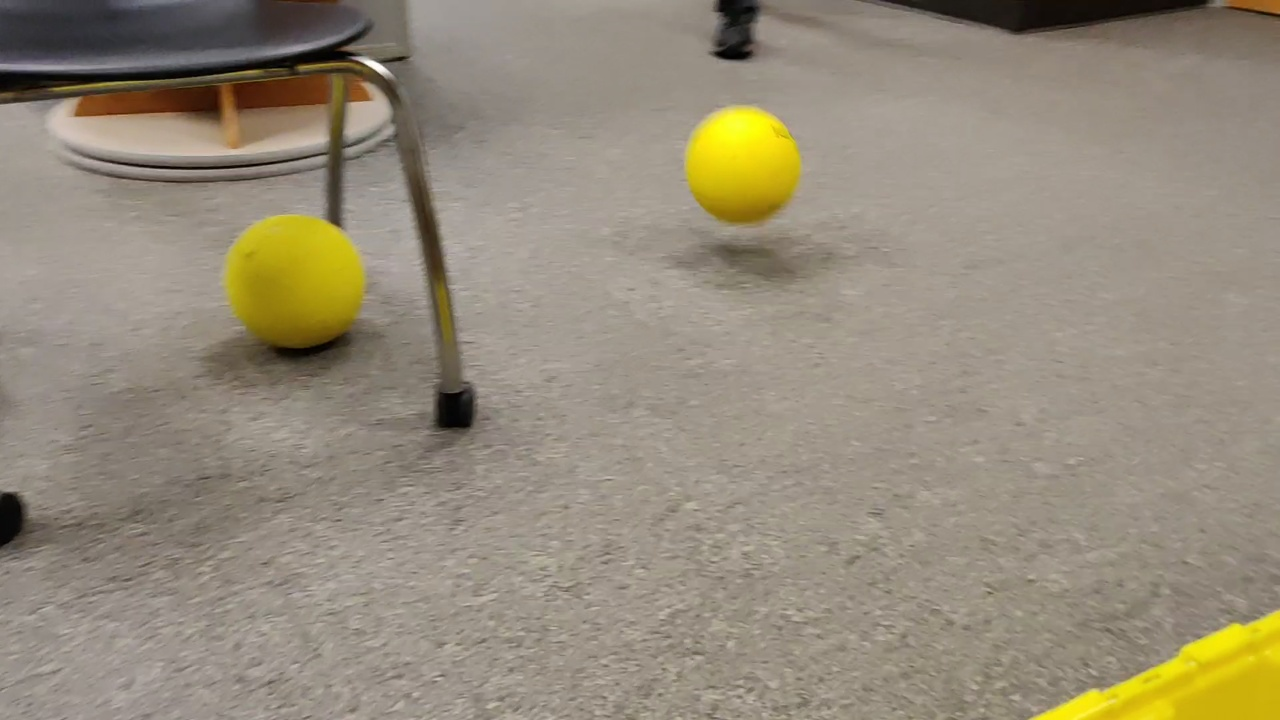Ball: (220, 212, 363, 352), (677, 100, 806, 226)
